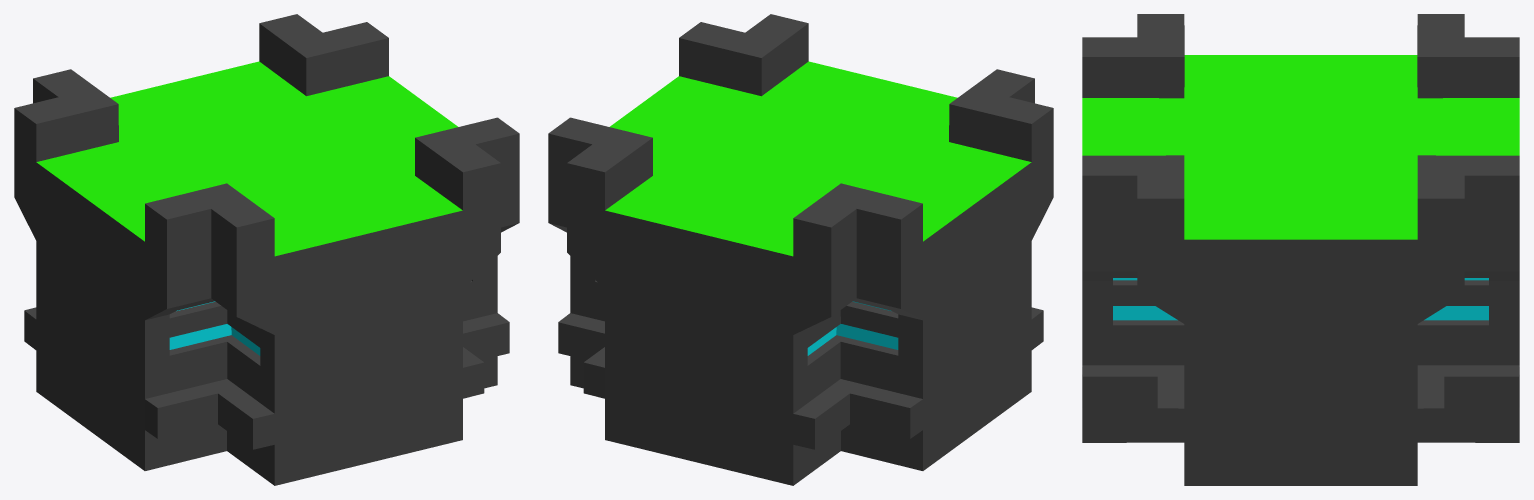
File: Bridge X.fbx
3 views of the same model, side by side, from view 1: azimuth 30°, elevation 25°; view 2: azimuth 150°, elevation 25°; view 3: azimuth 270°, elevation 25° (orthographic). The views are drawn at different scales.
Visible parts, largest first — view 1: Bridge X; view 2: Bridge X; view 3: Bridge X.
Part boxes in pixels (x1,y1,x2,y2): Bridge X: (14,14,519,485); Bridge X: (548,14,1053,485); Bridge X: (1082,14,1519,485).
Size of the model in its own units: 200 by 145 by 200.
